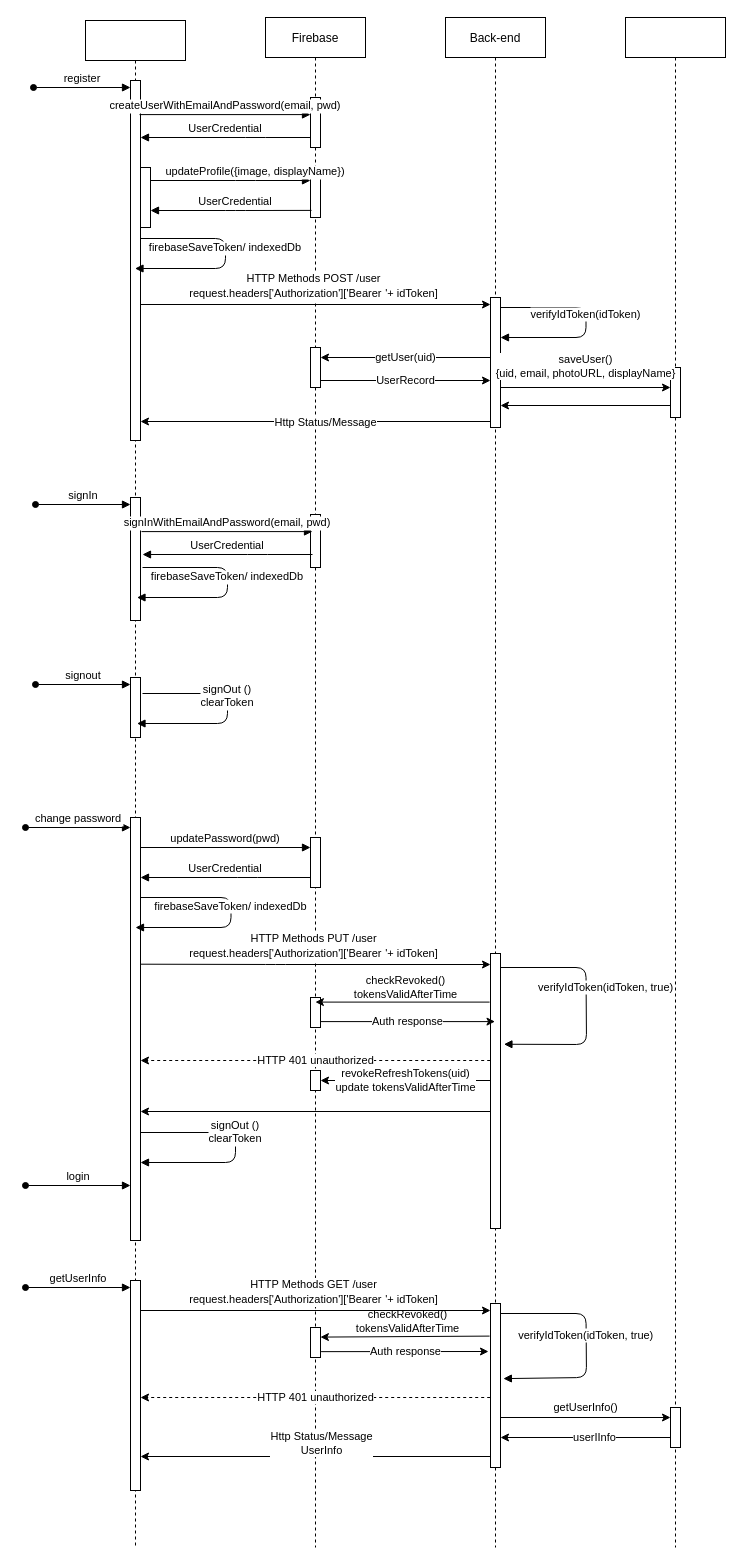
Image size: 743x1565. Some labels were removed from this diagram. Here are the shapes that lost their labels. From the top down, the box of each, then its label:
(84, 20, 186, 1548): Client
(624, 16, 726, 1548): Database
